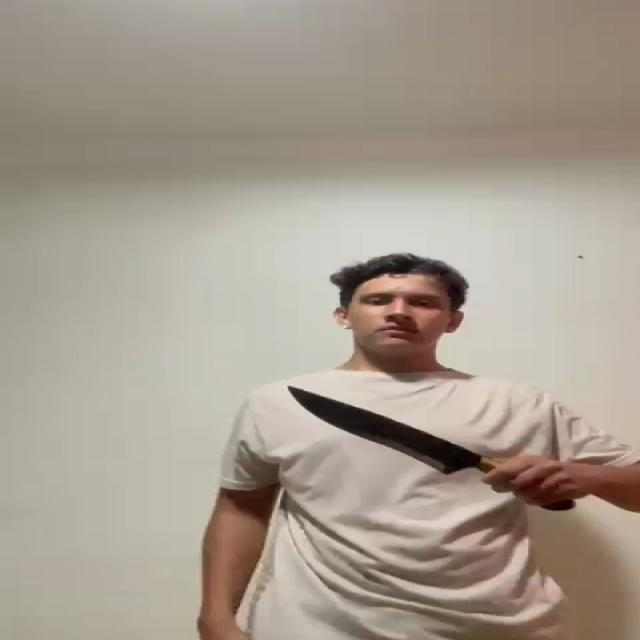knife: (286, 386, 474, 474)
